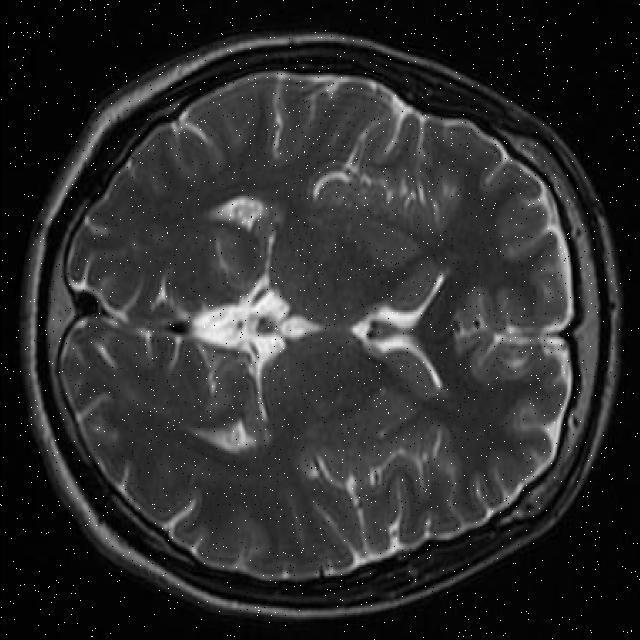No_Tumor: (25, 35, 619, 617)
